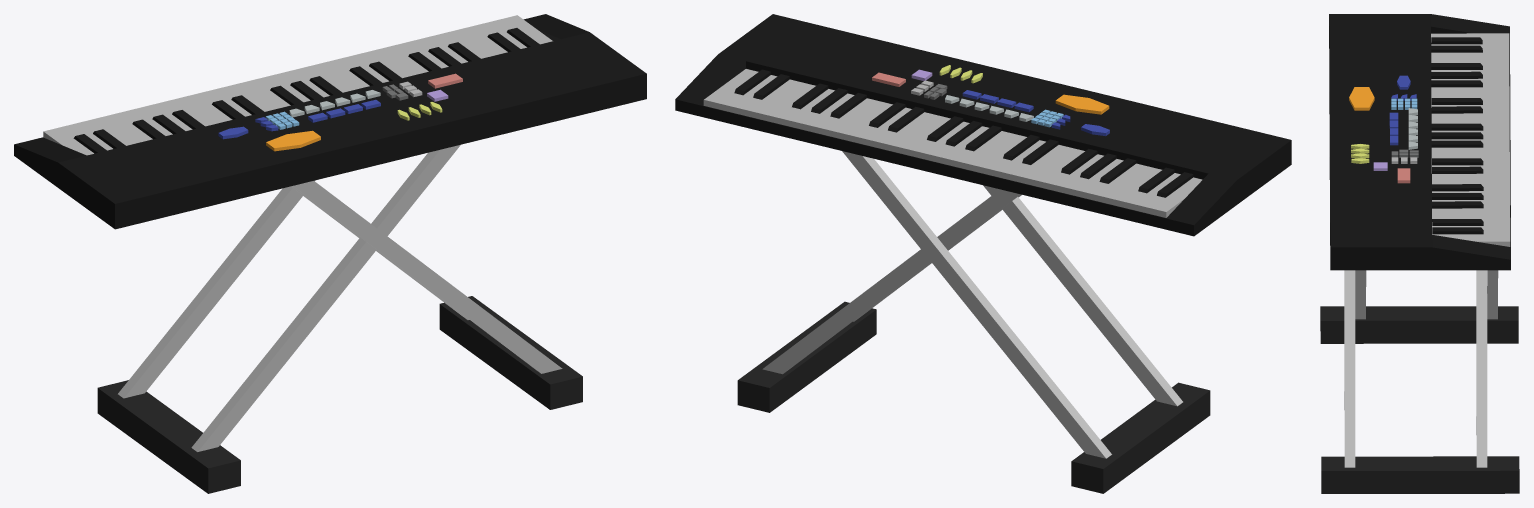
File: Organ.fbx
The picture shows the model from 3 angles, left to right: view 1: azimuth 30°, elevation 25°; view 2: azimuth 150°, elevation 25°; view 3: azimuth 270°, elevation 25°; orthographic projection. The views are drawn at different scales.
Visible parts, largest first — view 1: Organ; view 2: Organ; view 3: Organ.
Part boxes in pixels (x1,y1,x2,y2): Organ: (14, 14, 646, 493); Organ: (675, 14, 1291, 493); Organ: (1320, 14, 1519, 493).
Bounding box in the file's own units: 300 × 167 × 108.
